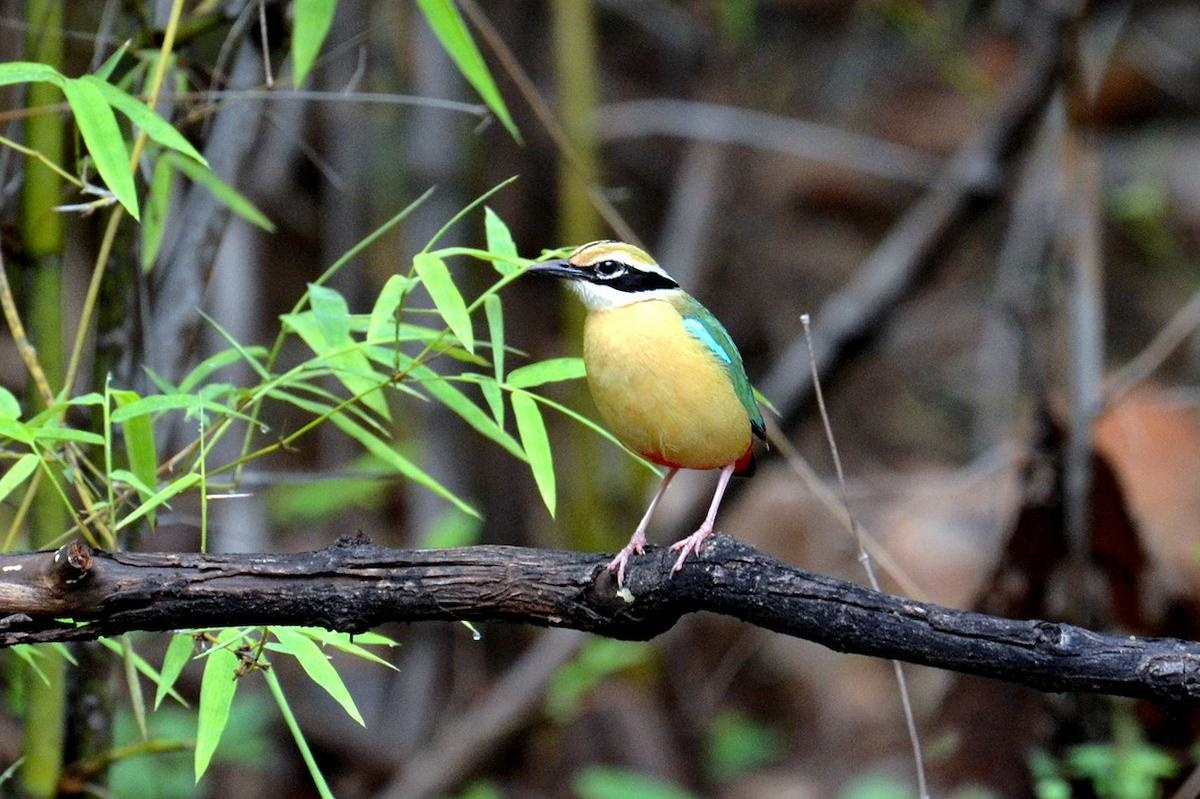pitta: (527, 234, 784, 575)
